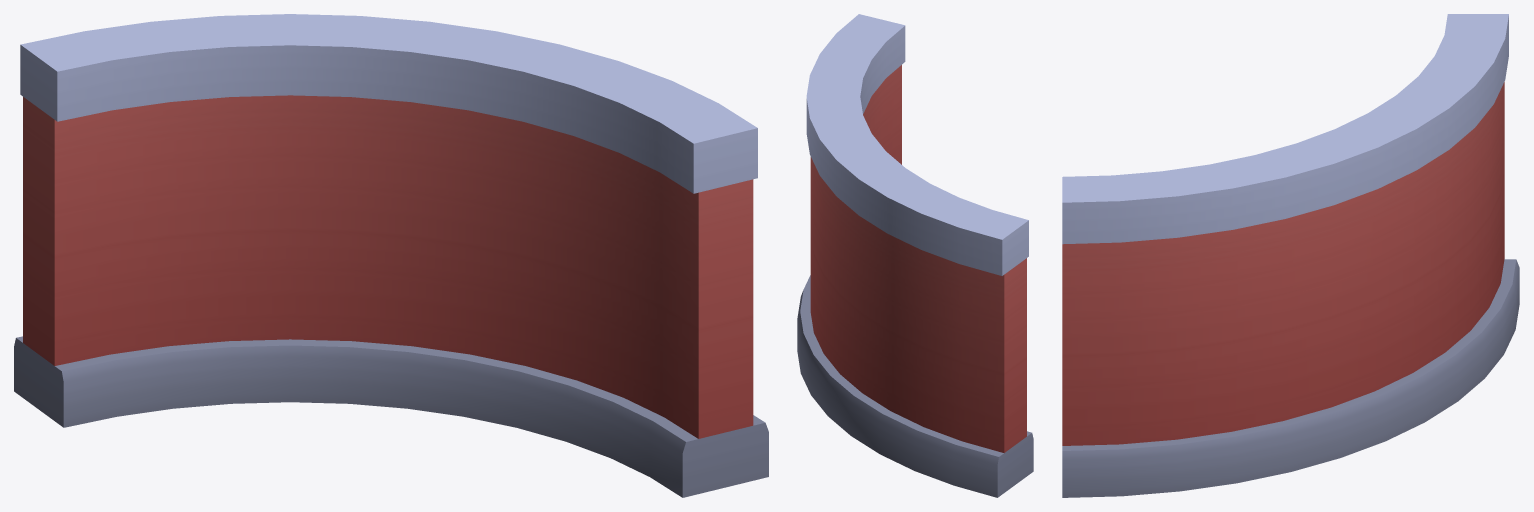
File: brick-wall-curve.glb
3 views of the same model, side by side, from view 1: azimuth 30°, elevation 25°; view 2: azimuth 150°, elevation 25°; view 3: azimuth 270°, elevation 25° (orthographic). The views are drawn at different scales.
Parts seen in each view (by area): view 1: Asset3DLoader.sceneRoot; view 2: Asset3DLoader.sceneRoot; view 3: Asset3DLoader.sceneRoot.
Part boxes in pixels (x1=…): Asset3DLoader.sceneRoot: x1=14, y1=14, x2=768, y2=497; Asset3DLoader.sceneRoot: x1=797, y1=14, x2=1033, y2=497; Asset3DLoader.sceneRoot: x1=1062, y1=14, x2=1519, y2=497.
Size of the model in its own units: 1 by 0.7019 by 1.
1 material, 1 textured.
